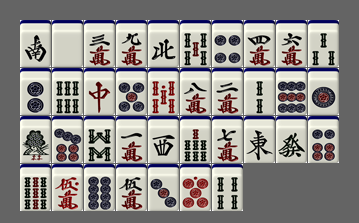0m: (52, 164, 83, 211)
0p: (180, 164, 211, 211)
0s: (148, 68, 179, 115)
1m: (116, 116, 147, 163)
1p: (308, 68, 339, 115)
1s: (20, 116, 51, 163)
1z: (244, 116, 275, 163)
2m: (212, 68, 243, 115)
2p: (20, 68, 51, 115)
2s: (244, 68, 275, 115)
2z: (20, 20, 51, 67)
3m: (84, 20, 115, 67)
3p: (148, 164, 179, 211)
3s: (308, 20, 339, 67)
3z: (148, 116, 179, 163)
4m: (244, 20, 275, 67)
4p: (212, 20, 243, 67)
4s: (212, 164, 243, 211)
4z: (148, 20, 179, 67)
5m: (116, 164, 147, 211)
5p: (116, 68, 147, 115)
5s: (180, 20, 211, 67)
5z: (52, 20, 83, 67)
6m: (276, 20, 307, 67)
6p: (308, 116, 339, 163)
6s: (52, 68, 83, 115)
6z: (276, 116, 307, 163)
7m: (212, 116, 243, 163)
7p: (52, 116, 83, 163)
7s: (180, 116, 211, 163)
7z: (84, 68, 115, 115)
8m: (180, 68, 211, 115)
8p: (84, 164, 115, 211)
8s: (84, 116, 115, 163)
9m: (116, 20, 147, 67)
9p: (276, 68, 307, 115)
9s: (20, 164, 51, 211)
